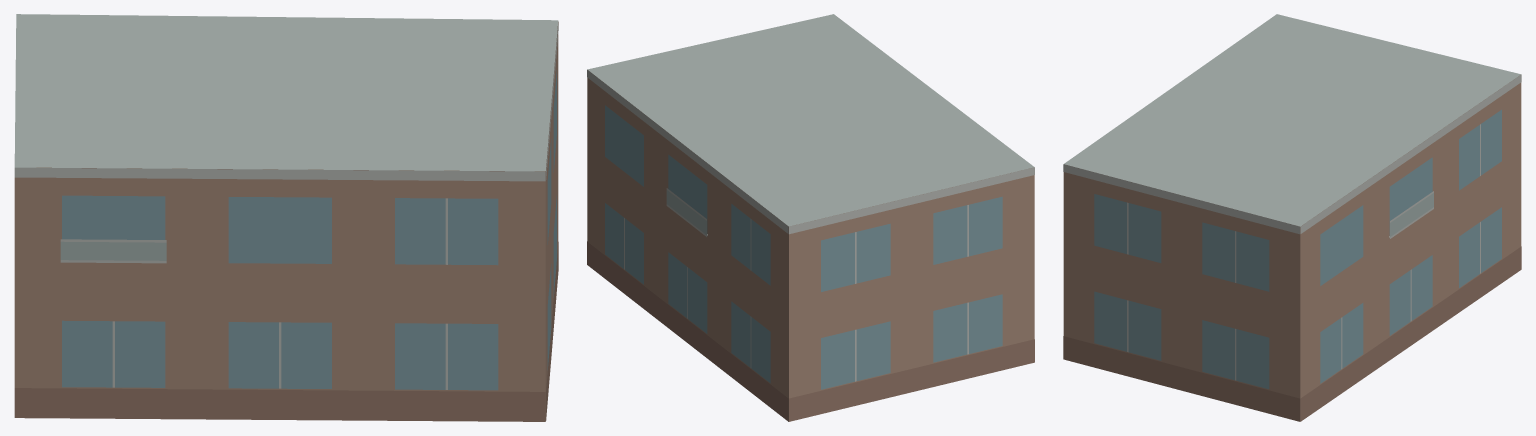
File: survey-upis-32654288.glb
3 renders of one model, left to right at view 1: azimuth 30°, elevation 25°; view 2: azimuth 150°, elevation 25°; view 3: azimuth 270°, elevation 25°, orthographic. The views are drawn at different scales.
Visible parts, largest first — view 1: survey-upis-32654288.tmp; view 2: survey-upis-32654288.tmp; view 3: survey-upis-32654288.tmp.
Boxes of the visible parts, x1=… form: survey-upis-32654288.tmp: x1=14, y1=14, x2=558, y2=421; survey-upis-32654288.tmp: x1=587, y1=14, x2=1034, y2=421; survey-upis-32654288.tmp: x1=1063, y1=14, x2=1521, y2=421.
Bounding box in the file's own units: 14.25 × 6.1 × 12.97.
